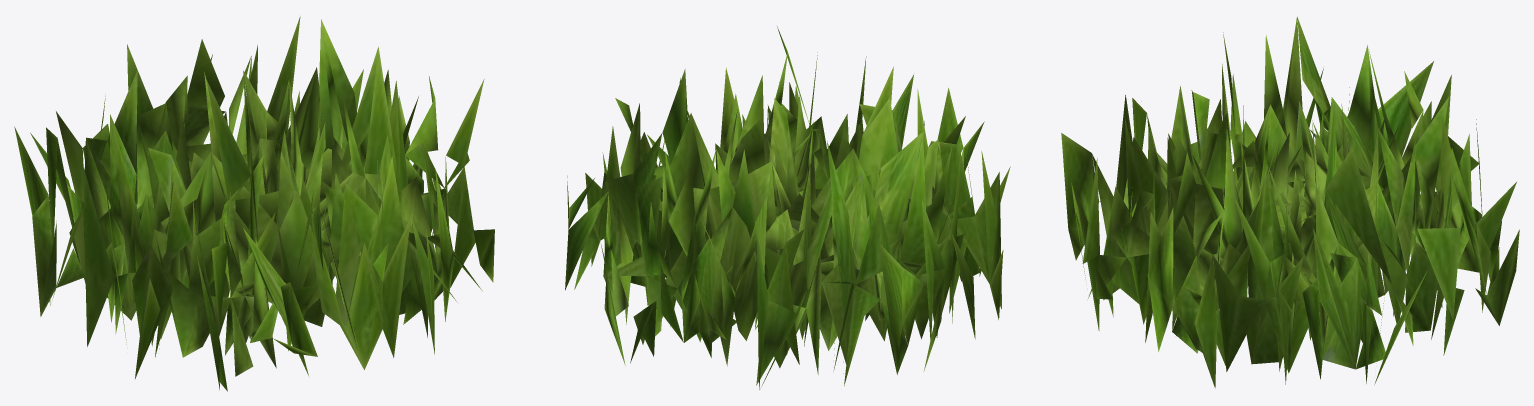
Rendered from grass_reeds.glb.
3 renders of one model, left to right at view 1: azimuth 30°, elevation 25°; view 2: azimuth 150°, elevation 25°; view 3: azimuth 270°, elevation 25°, orthographic. The views are drawn at different scales.
Parts seen in each view (by area): view 1: plant; view 2: plant; view 3: plant.
Part boxes in pixels (x1,y1,x2,y2): plant: [14, 16, 494, 391]; plant: [565, 26, 1010, 389]; plant: [1061, 16, 1519, 388].
Bounding box in the file's own units: 1.63 × 1 × 1.68.
1 material, 1 textured.
